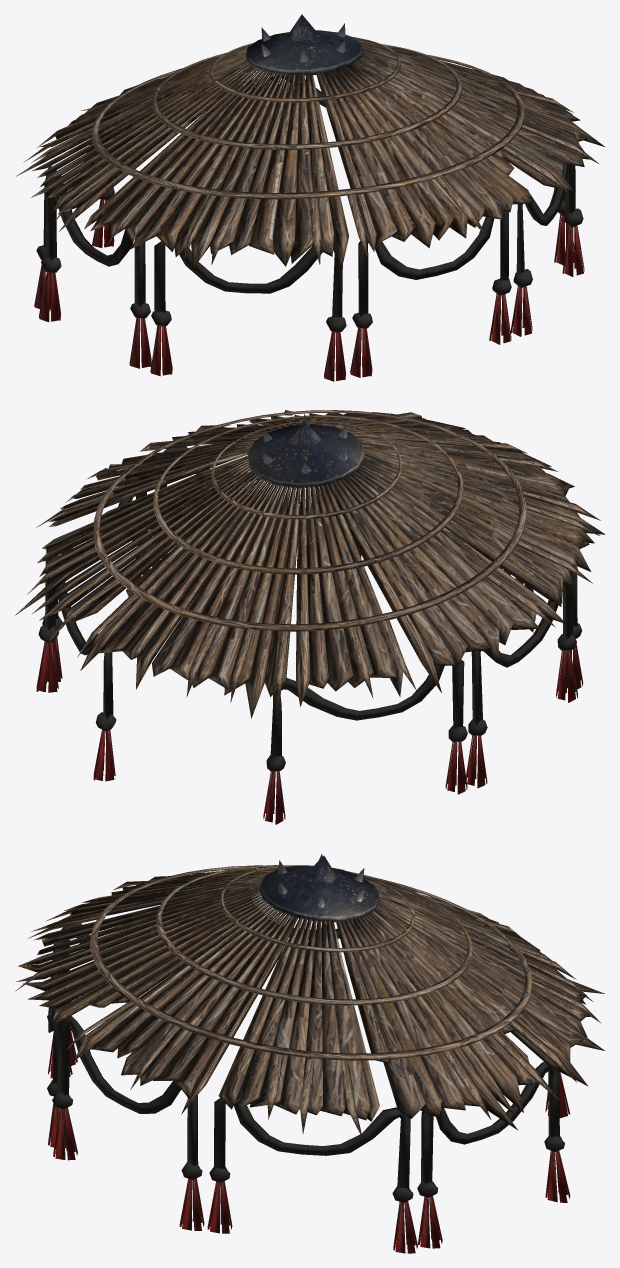
The model's file is 22-Samurai-Ninja-Straw-Hat-95852706400551.glb.
3 views of the same model, one above another, from view 1: azimuth 30°, elevation 25°; view 2: azimuth 150°, elevation 25°; view 3: azimuth 270°, elevation 25° (orthographic). The views are drawn at different scales.
Parts seen in each view (by area): view 1: 22-Samurai-Ninja-Straw-Hat-95852706400551; view 2: 22-Samurai-Ninja-Straw-Hat-95852706400551; view 3: 22-Samurai-Ninja-Straw-Hat-95852706400551.
Boxes of the visible parts, bbox=[...] form: 22-Samurai-Ninja-Straw-Hat-95852706400551: bbox=[16, 14, 604, 381]; 22-Samurai-Ninja-Straw-Hat-95852706400551: bbox=[15, 410, 605, 824]; 22-Samurai-Ninja-Straw-Hat-95852706400551: bbox=[15, 854, 604, 1253].
Bounding box in the file's own units: 2.96 × 1.66 × 2.95.
1 material, 1 textured.
